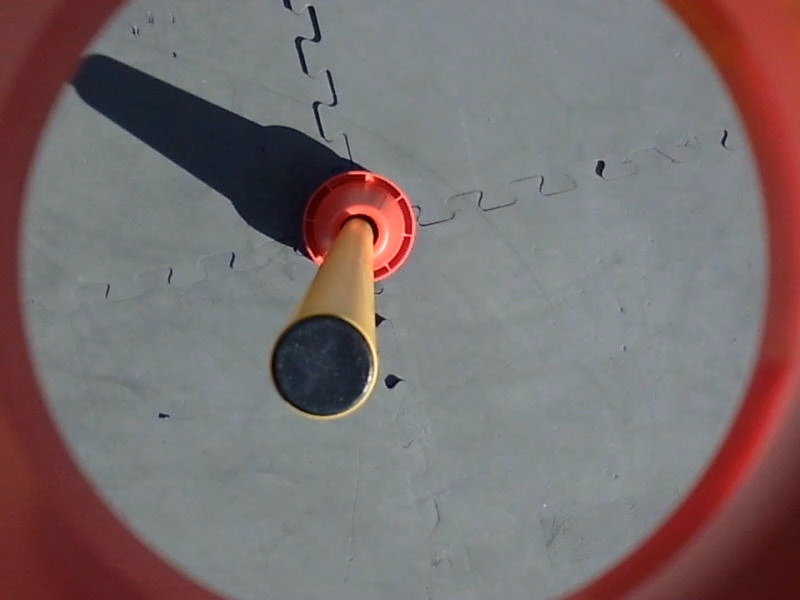tip: (269, 307, 385, 422)
